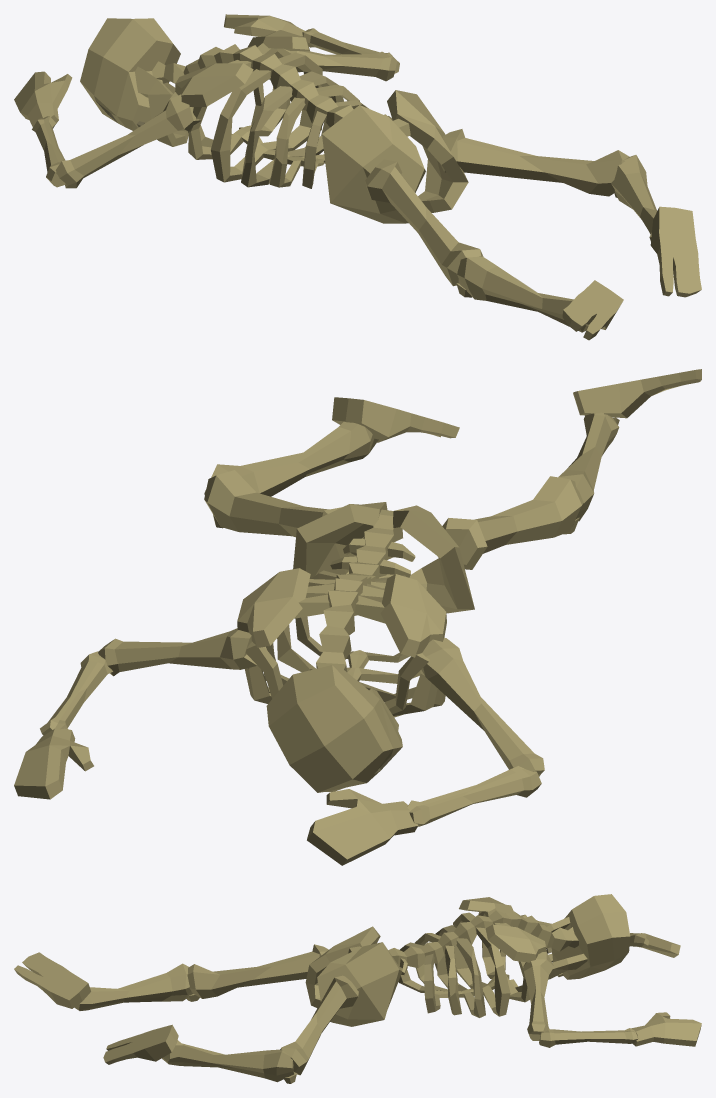
The model's file is Sceleton_4.fbx.
3 renders of one model, top to bottom at view 1: azimuth 30°, elevation 25°; view 2: azimuth 150°, elevation 25°; view 3: azimuth 270°, elevation 25°, orthographic. The views are drawn at different scales.
Visible parts, largest first — view 1: Sceleton_4; view 2: Sceleton_4; view 3: Sceleton_4.
Boxes of the visible parts, box(x1,y1,x2,y2) form: Sceleton_4: box(14, 14, 701, 340); Sceleton_4: box(14, 369, 701, 865); Sceleton_4: box(14, 894, 701, 1083).
Size of the model in its own units: 112 by 29.5 by 203.
